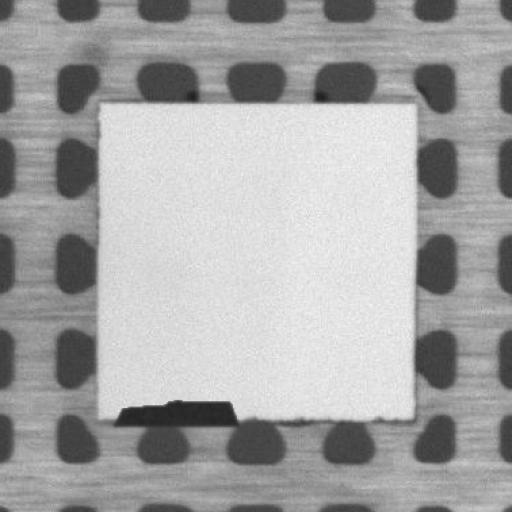DIE_BROKEN: (108, 394, 241, 426)
